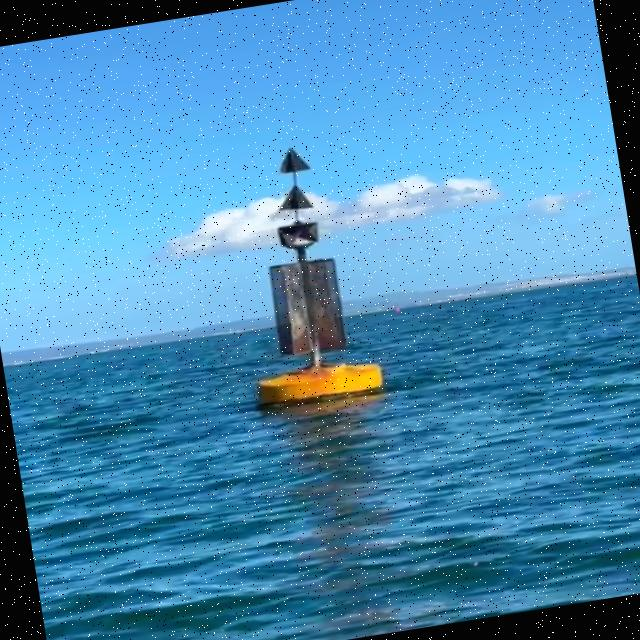marque: (222, 136, 390, 419)
